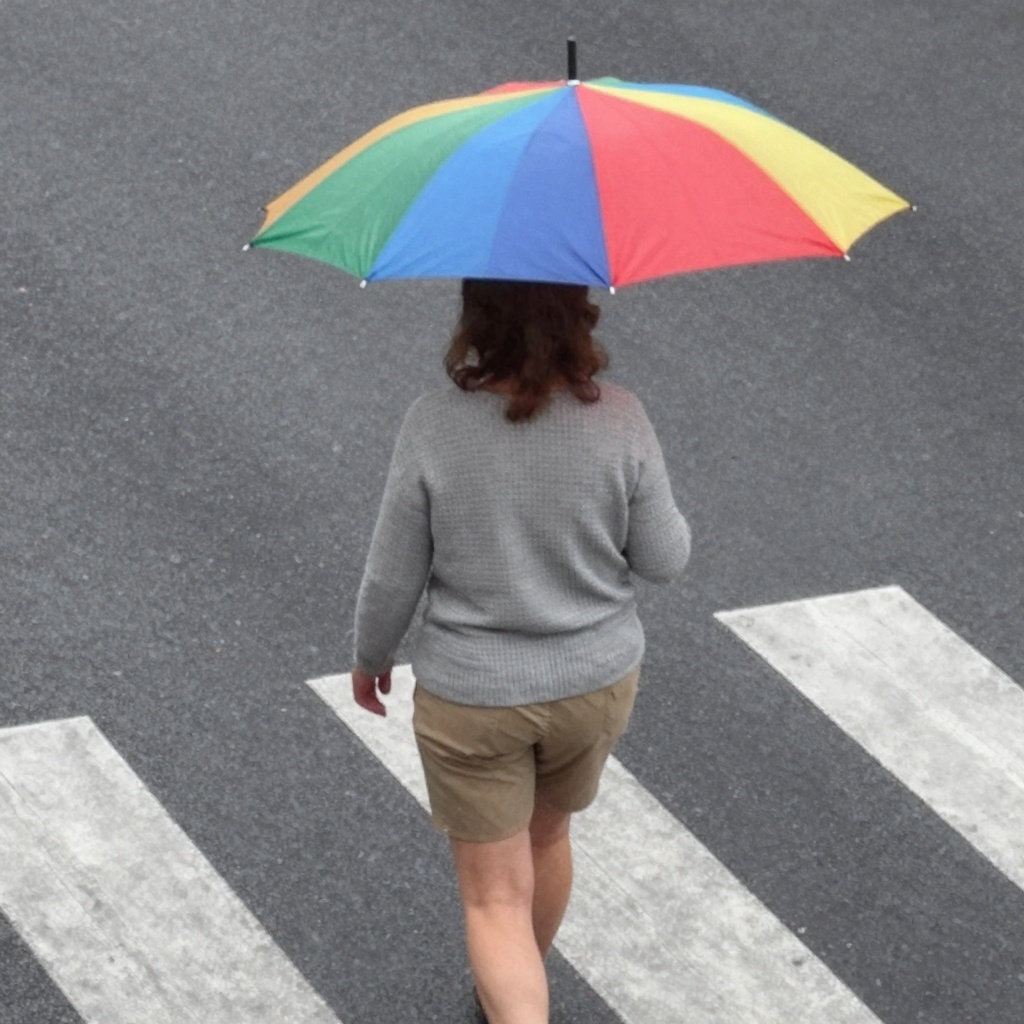Normal activity: (349, 280, 693, 1022)
